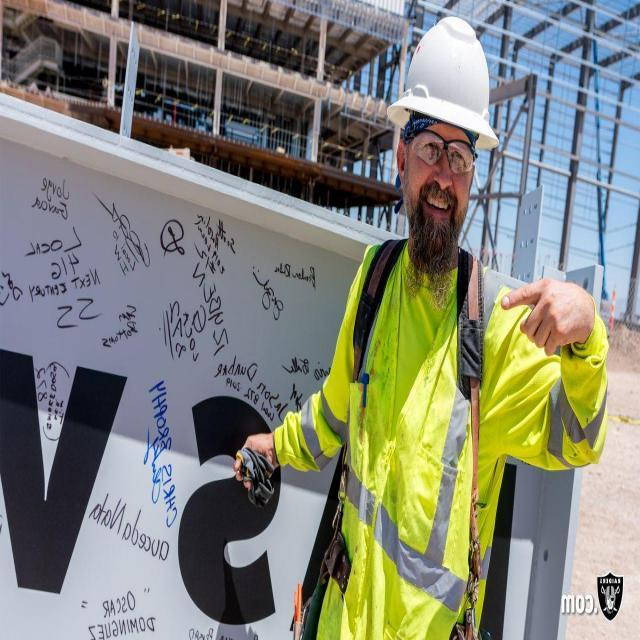reflective_jacket: (302, 242, 611, 633)
safety_helmet: (385, 13, 501, 150)
